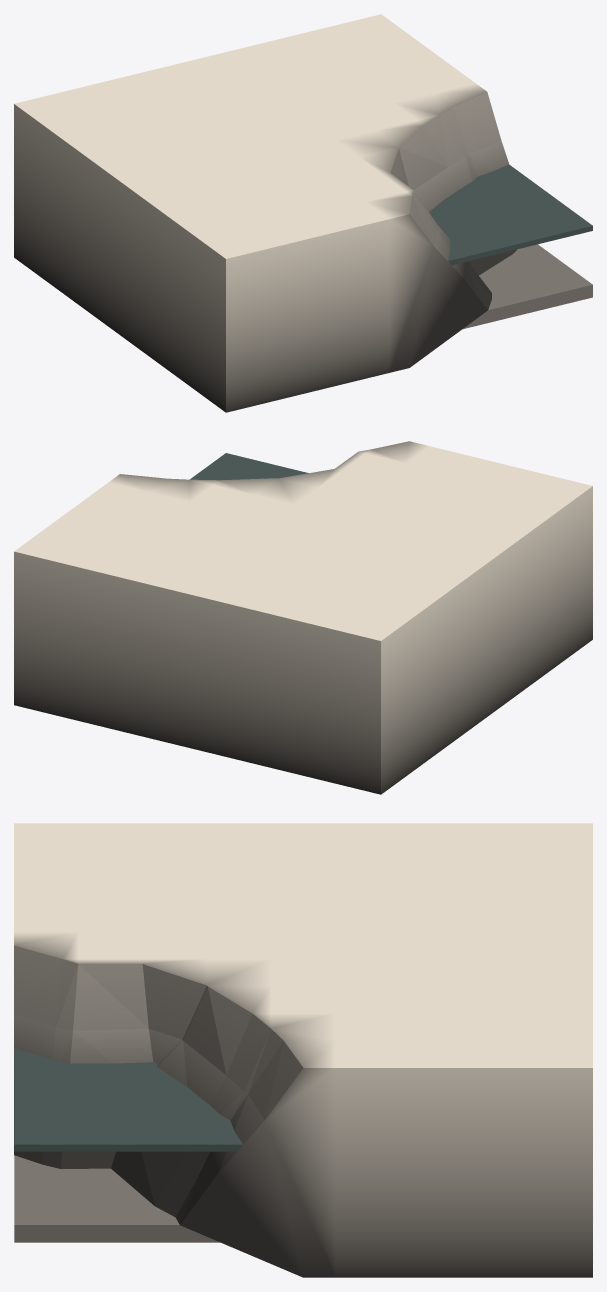
The model's file is SM_VKI_Ground_Stream_OXOO_Q10.fbx.
3 renders of one model, top to bottom at view 1: azimuth 30°, elevation 25°; view 2: azimuth 150°, elevation 25°; view 3: azimuth 270°, elevation 25°, orthographic. The views are drawn at different scales.
Parts seen in each view (by area): view 1: SM_VKI_Ground_Stream_OXOO_Q10.001; view 2: SM_VKI_Ground_Stream_OXOO_Q10.001; view 3: SM_VKI_Ground_Stream_OXOO_Q10.001.
Part boxes in pixels (box(x1,y1,x2,y2)): SM_VKI_Ground_Stream_OXOO_Q10.001: box(14, 14, 592, 412); SM_VKI_Ground_Stream_OXOO_Q10.001: box(14, 441, 592, 794); SM_VKI_Ground_Stream_OXOO_Q10.001: box(14, 823, 592, 1277).
Size of the model in its own units: 1.5 by 0.6 by 1.5.
